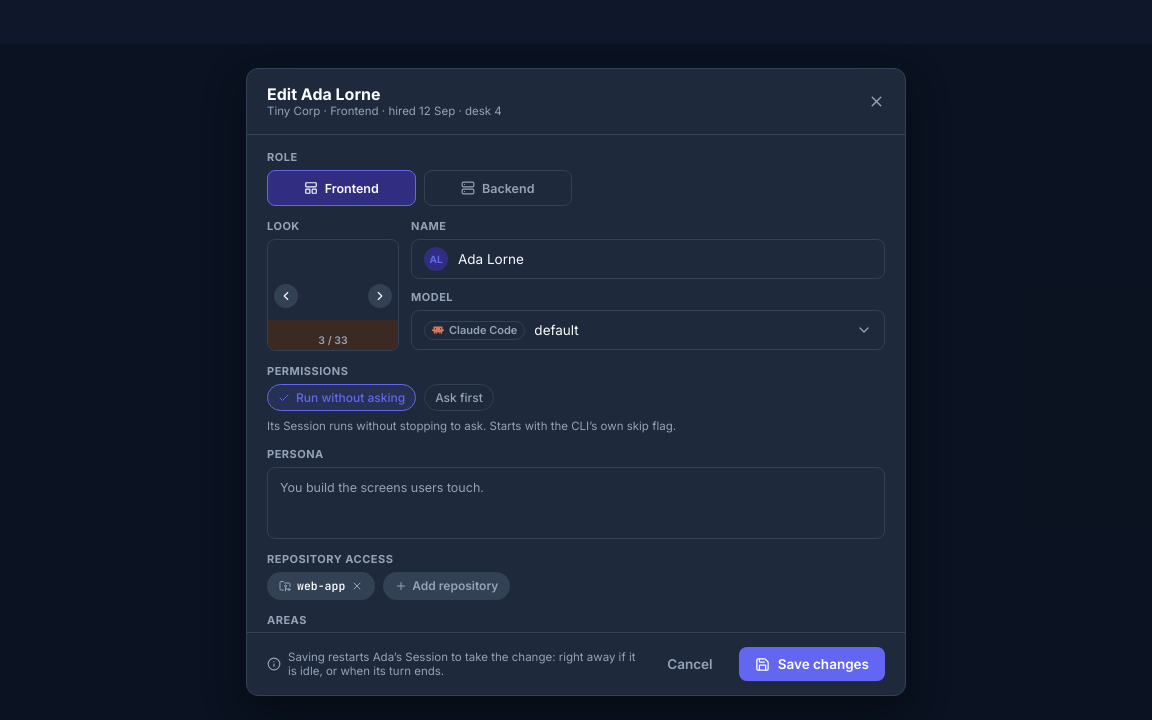
the PERMISSIONS field (T164) › follows the choice, and saves it
Click the radio button labelled "Ask first". click: (459, 398)
box: [424,384,494,411]
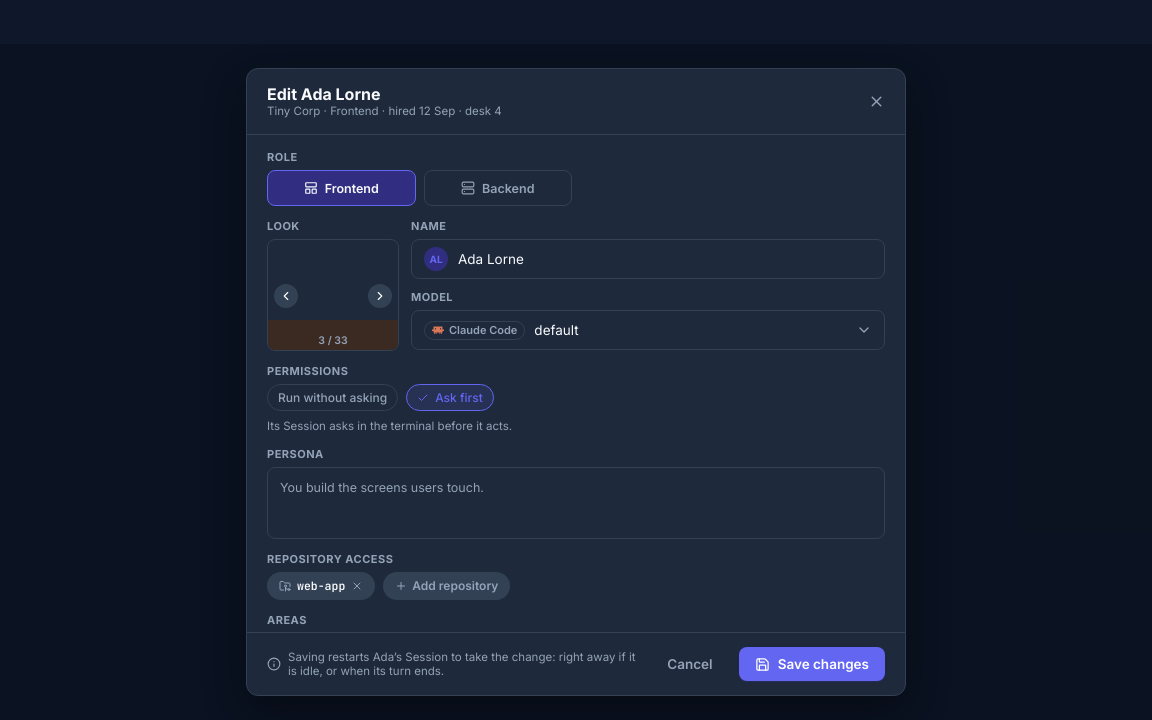
Expected: the text "Its Session asks in the terminal before it acts." is shown, [267,419,512,433]
